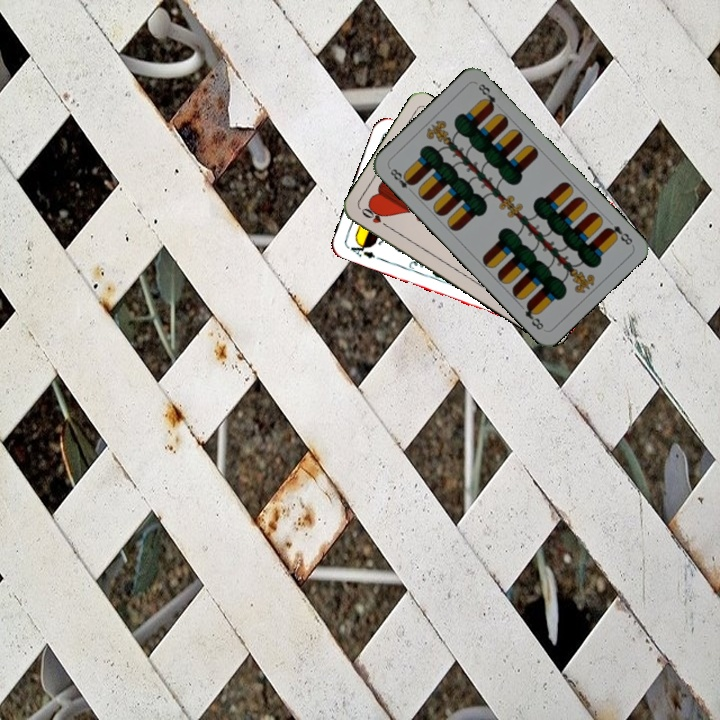E8: (385, 163, 417, 197), (601, 221, 635, 248)
EA: (343, 237, 378, 261)
HO: (357, 204, 393, 231)
